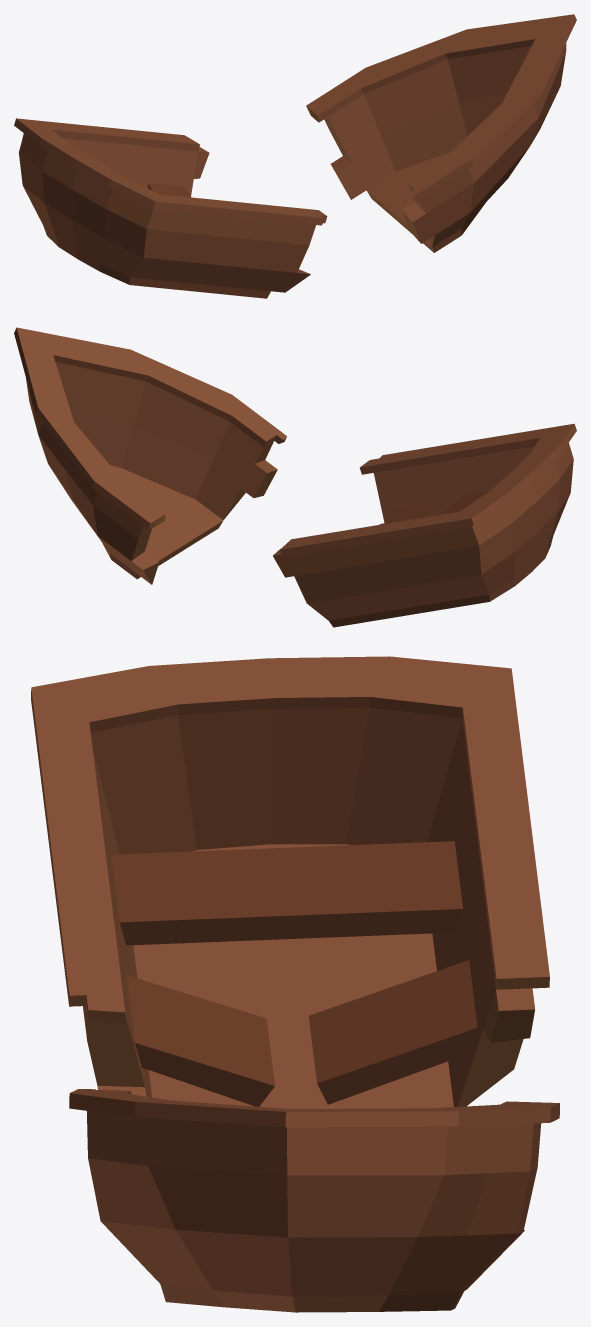
The model's file is boat.fbx.
3 renders of one model, top to bottom at view 1: azimuth 30°, elevation 25°; view 2: azimuth 150°, elevation 25°; view 3: azimuth 270°, elevation 25°, orthographic. The views are drawn at different scales.
Visible parts, largest first — view 1: Cube, Cube.002; view 2: Cube, Cube.002; view 3: Cube.002, Cube.
Part boxes in pixels (box(x1,y1,x2,y2)): Cube: box(306, 14, 576, 252); Cube.002: box(14, 118, 327, 298); Cube: box(14, 327, 286, 584); Cube.002: box(273, 423, 576, 627); Cube.002: box(31, 656, 549, 1108); Cube: box(69, 1089, 559, 1312).
Bounding box in the file's own units: 2268 × 759 × 1016.
